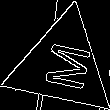M_W: (33, 37, 90, 93)
